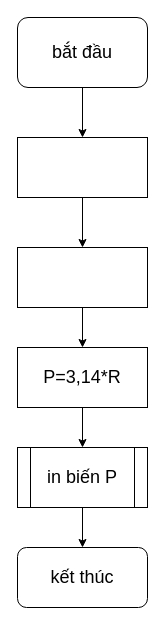
Image size: 165x625. Some labels were removed from this diagram. The shapes that lost their labels are listed below. From the top down, each one's centre as x and y in pixels, then its label:
At point (82, 167): "khai báo P,R".
At point (82, 277): "nhập R".
